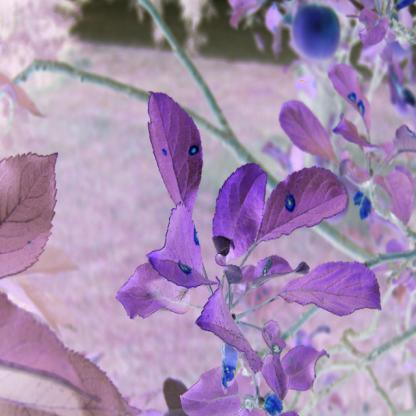Apple rust leaf: (257, 154, 359, 252), (144, 89, 211, 211), (140, 216, 227, 302)
